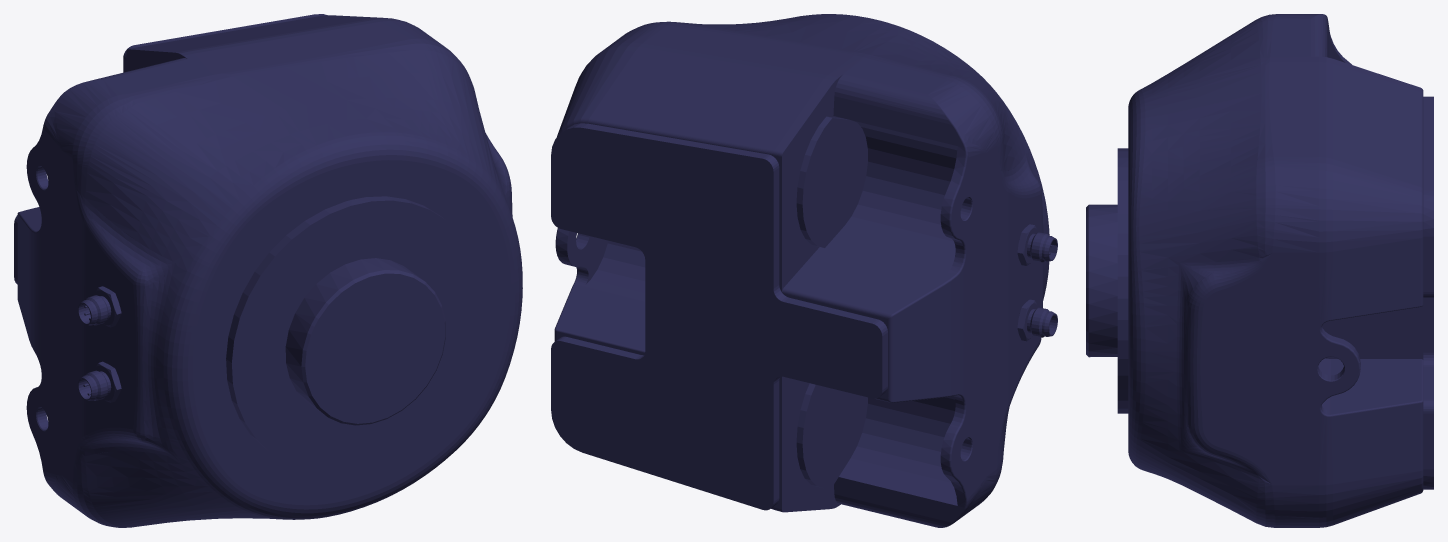
Rendered from palm.dae.
3 views of the same model, side by side, from view 1: azimuth 30°, elevation 25°; view 2: azimuth 150°, elevation 25°; view 3: azimuth 270°, elevation 25° (orthographic). The views are drawn at different scales.
Visible parts, largest first — view 1: palm; view 2: palm; view 3: palm.
Part boxes in pixels (x1=…): palm: x1=14, y1=14, x2=522, y2=527; palm: x1=551, y1=14, x2=1057, y2=527; palm: x1=1086, y1=14, x2=1433, y2=527.
Size of the model in its own units: 0.1332 by 0.1048 by 0.1302.
